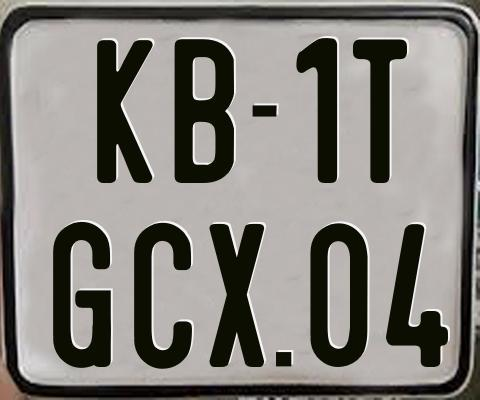0: (310, 220, 369, 369)
1: (294, 38, 338, 187)
4: (383, 224, 445, 367)
B: (171, 37, 233, 185)
C: (133, 222, 195, 374)
G: (51, 222, 114, 369)
K: (96, 39, 154, 188)
T: (350, 37, 409, 184)
X: (209, 222, 270, 371)
